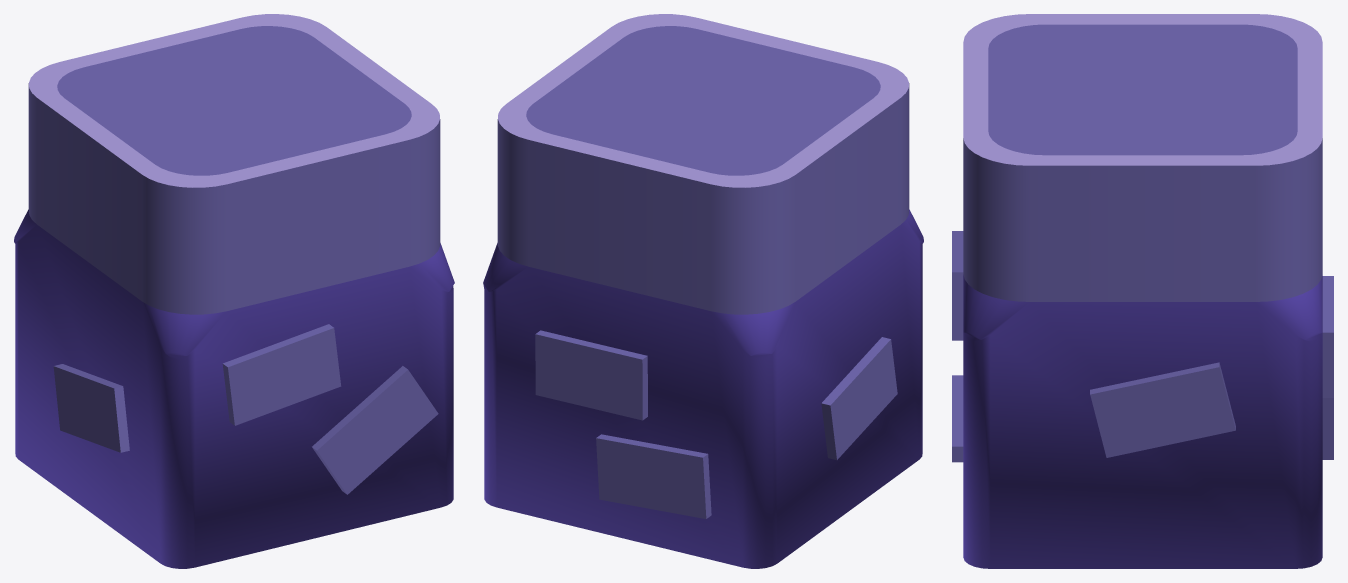
The model's file is Wall_Tile_Block1.fbx.
The picture shows the model from 3 angles, left to right: view 1: azimuth 30°, elevation 25°; view 2: azimuth 150°, elevation 25°; view 3: azimuth 270°, elevation 25°; orthographic projection. The views are drawn at different scales.
Visible parts, largest first — view 1: Wall_Tile_Block1; view 2: Wall_Tile_Block1; view 3: Wall_Tile_Block1.
Boxes of the visible parts, x1=… form: Wall_Tile_Block1: x1=14, y1=14, x2=454, y2=568; Wall_Tile_Block1: x1=483, y1=14, x2=923, y2=568; Wall_Tile_Block1: x1=952, y1=14, x2=1333, y2=568.
Size of the model in its own units: 2.13 by 2.13 by 2.48.
